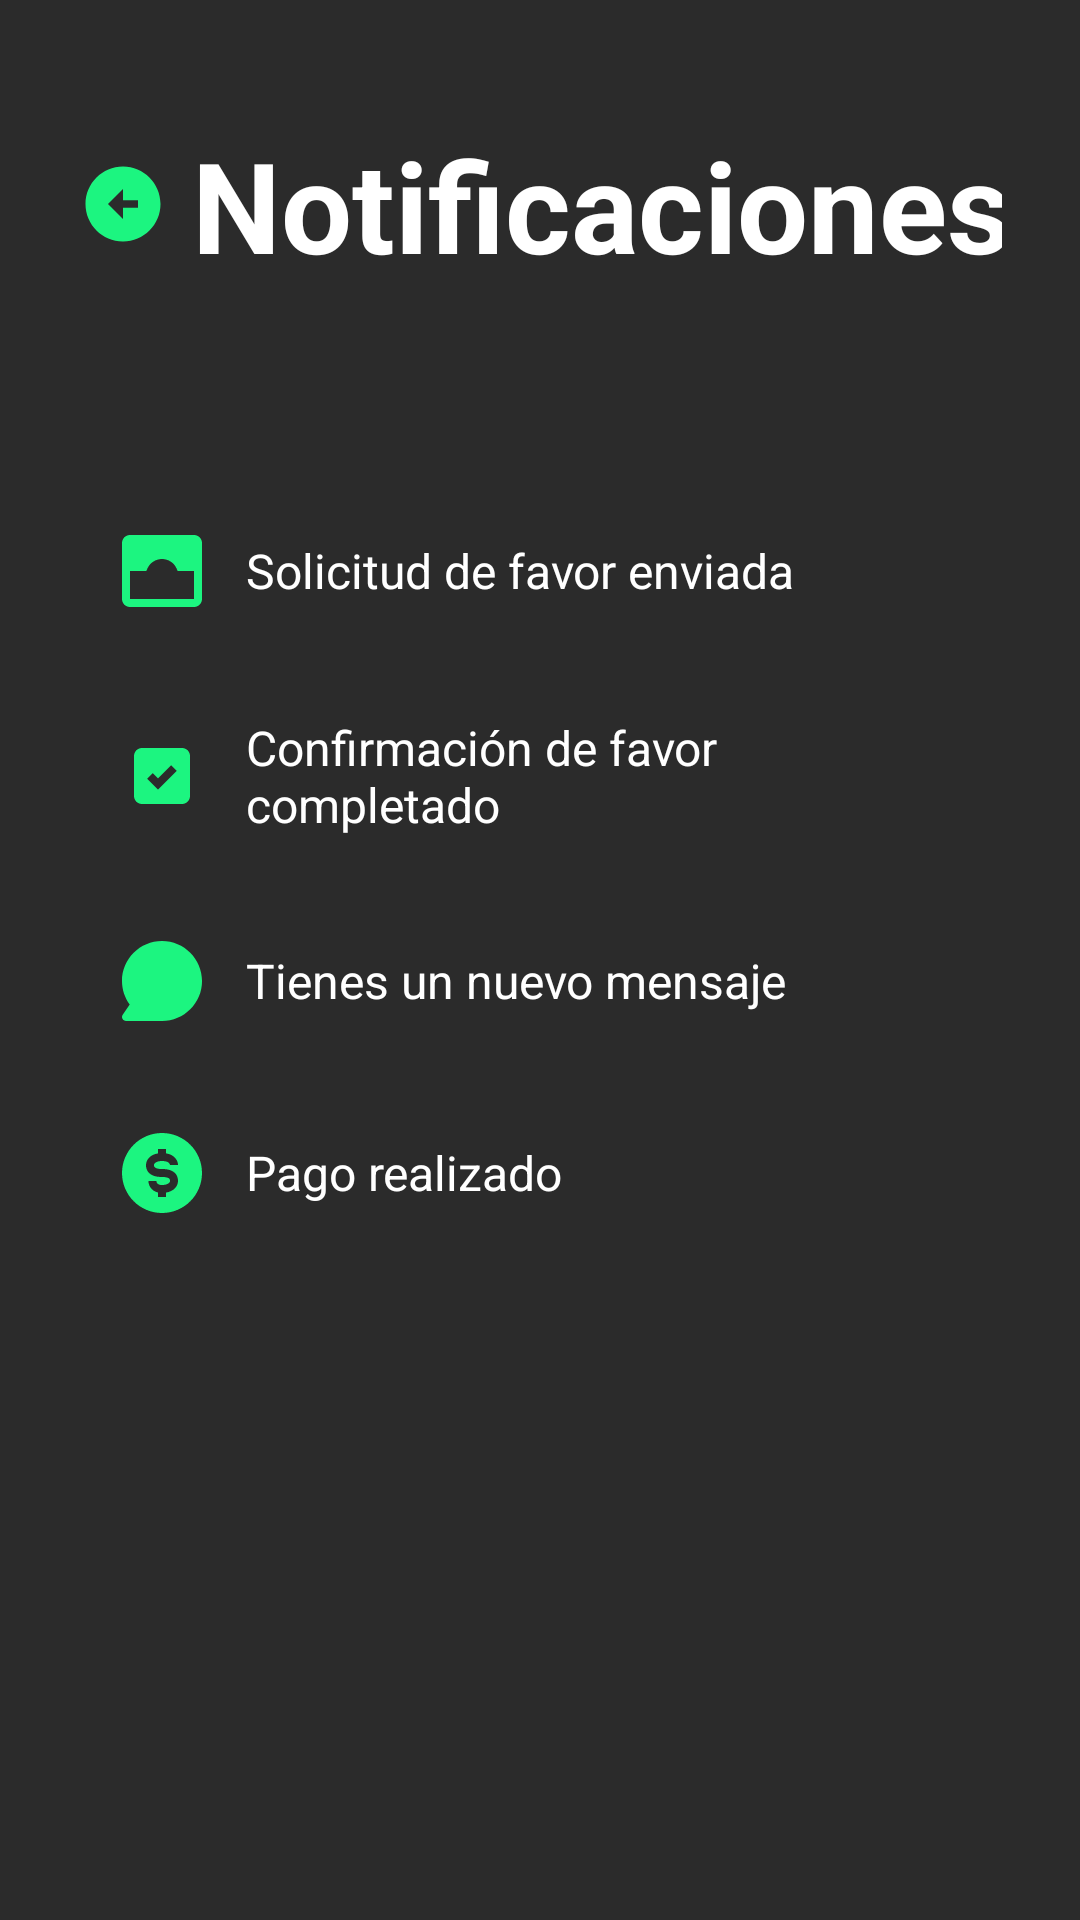

Where icons sit on this 1080w x 1920h app screen, as (left=x1, top=y1, right=x2, bottom=y2):
Atrás: (left=85, top=166, right=161, bottom=242)
